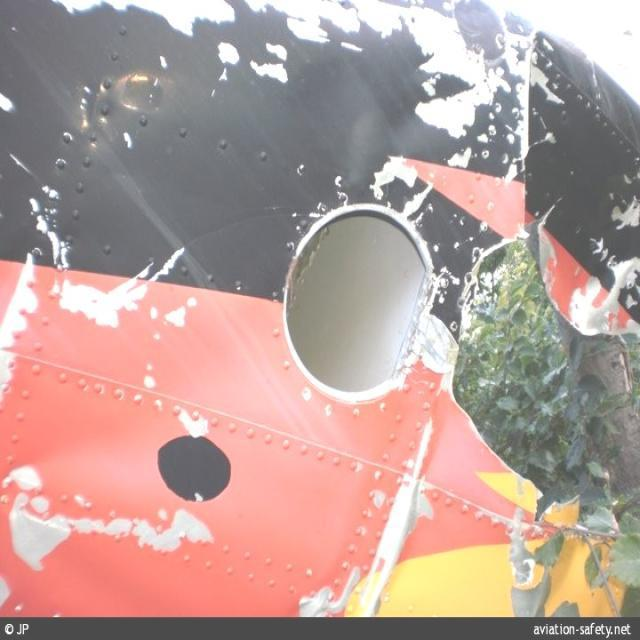dent: (26, 414, 155, 491), (337, 108, 374, 189), (382, 111, 423, 159)
